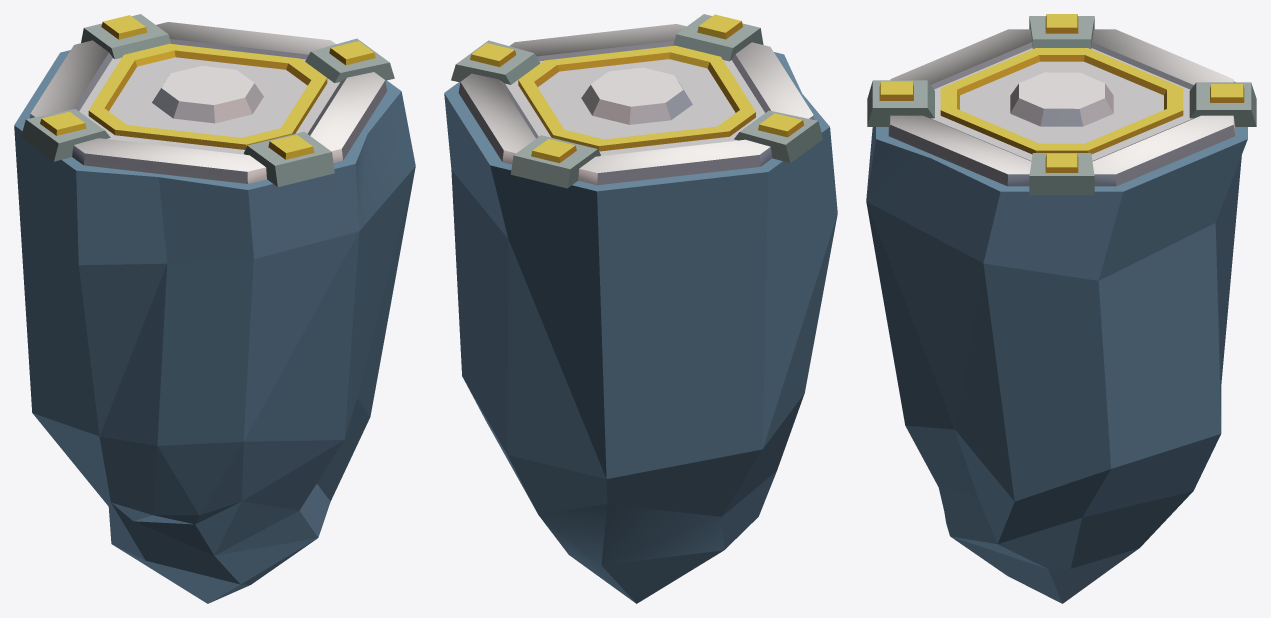
Rendered from HeroesPlatform.FBX.
3 renders of one model, left to right at view 1: azimuth 30°, elevation 25°; view 2: azimuth 150°, elevation 25°; view 3: azimuth 270°, elevation 25°, orthographic.
Visible parts, largest first — view 1: HeroesPlatform; view 2: HeroesPlatform; view 3: HeroesPlatform.
Part boxes in pixels (x1,y1,x2,y2): HeroesPlatform: (14,14,415,603); HeroesPlatform: (444,14,837,603); HeroesPlatform: (866,14,1256,603).
Size of the model in its own units: 148 by 216 by 148.
